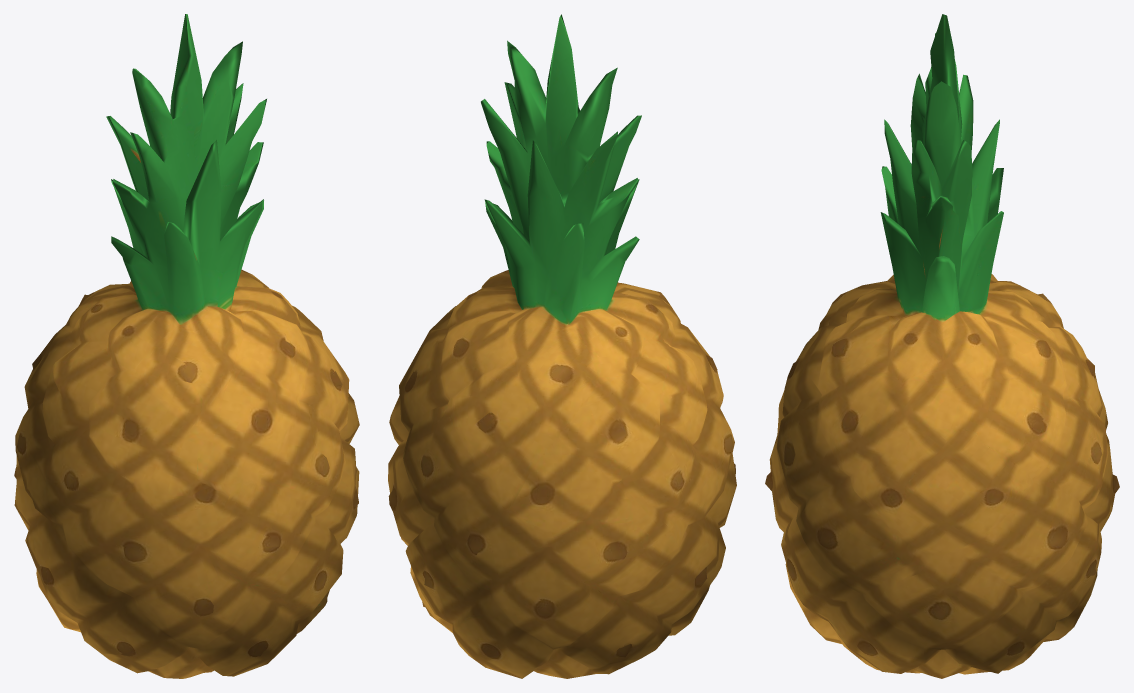
File: pineapple.glb
The picture shows the model from 3 angles, left to right: view 1: azimuth 30°, elevation 25°; view 2: azimuth 150°, elevation 25°; view 3: azimuth 270°, elevation 25°; orthographic projection.
Visible parts, largest first — view 1: tripo_node_fb213555-4663-4c29-ad3b-5b5b5f470d7b; view 2: tripo_node_fb213555-4663-4c29-ad3b-5b5b5f470d7b; view 3: tripo_node_fb213555-4663-4c29-ad3b-5b5b5f470d7b.
Part boxes in pixels (<box>): tripo_node_fb213555-4663-4c29-ad3b-5b5b5f470d7b: <box>14,14,359,678</box>; tripo_node_fb213555-4663-4c29-ad3b-5b5b5f470d7b: <box>388,14,736,678</box>; tripo_node_fb213555-4663-4c29-ad3b-5b5b5f470d7b: <box>765,14,1119,678</box>.
Bounding box in the file's own units: 0.4895 × 1 × 0.5063.
1 material, 1 textured.
